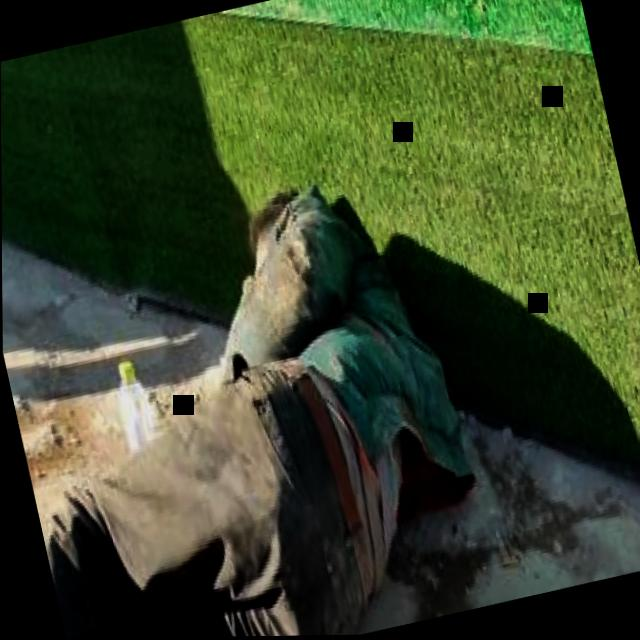Fall-Detected: (0, 70, 503, 640)
